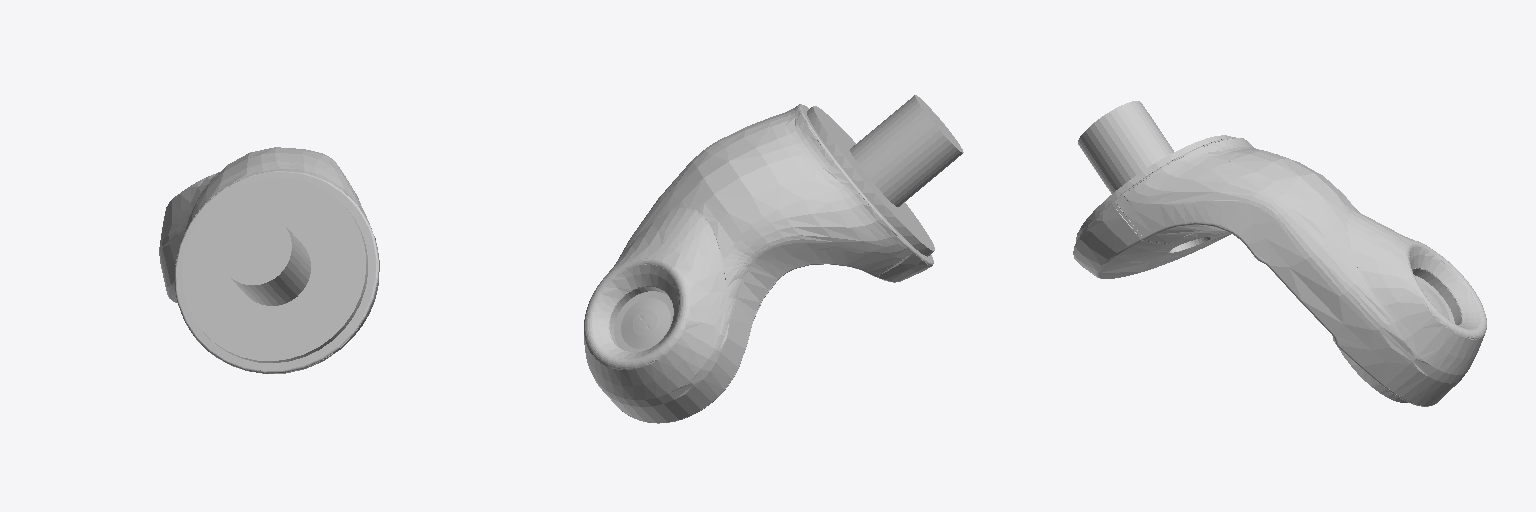
Rendered from IRB14000_rev00_Link5_L.obj.
The picture shows the model from 3 angles: view 1: azimuth 30°, elevation 25°; view 2: azimuth 150°, elevation 25°; view 3: azimuth 270°, elevation 25°; orthographic projection.
Parts seen in each view (by area): view 1: Link5_L3.0-2, Link5_L3.0, Link5_L3.0-1; view 2: Link5_L3.0, Link5_L3.0-2, Link5_L3.0-1; view 3: Link5_L3.0, Link5_L3.0-2, Link5_L3.0-1.
Boxes of the visible parts, x1,y1,x2,y2 form: Link5_L3.0-2: [182, 178, 365, 360]; Link5_L3.0: [159, 147, 379, 373]; Link5_L3.0-1: [203, 209, 367, 362]; Link5_L3.0: [584, 104, 933, 423]; Link5_L3.0-2: [813, 95, 963, 250]; Link5_L3.0-1: [614, 107, 933, 351]; Link5_L3.0: [1073, 137, 1486, 406]; Link5_L3.0-2: [1078, 101, 1173, 193]; Link5_L3.0-1: [1076, 135, 1454, 402].
Bounding box in the file's own units: 0.1035 × 0.1027 × 0.1638.